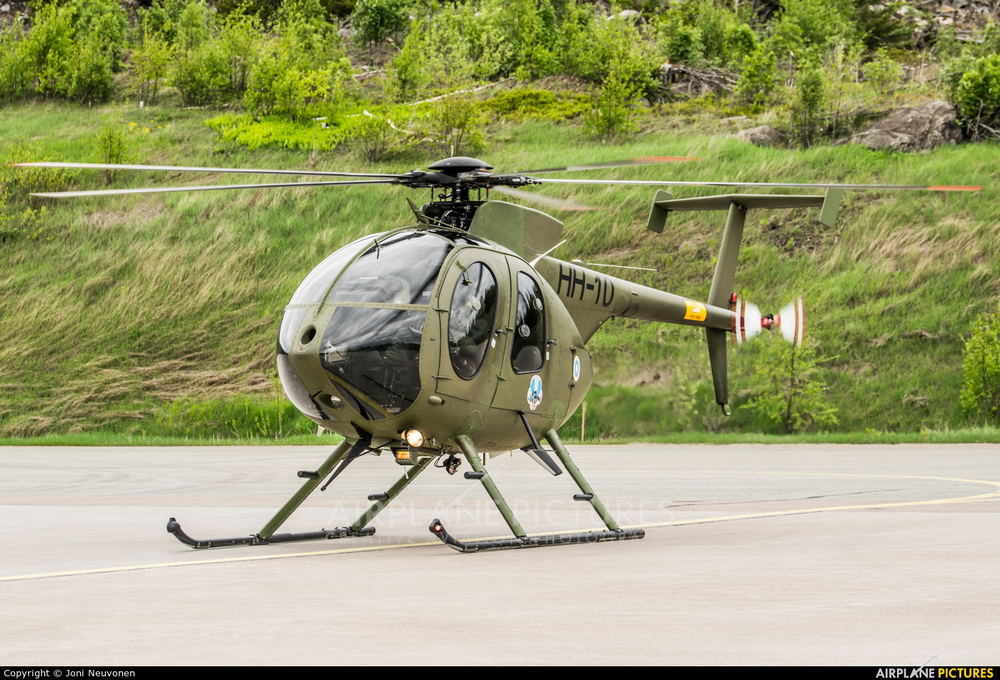Aeronef_militaire: (1, 104, 986, 561)
